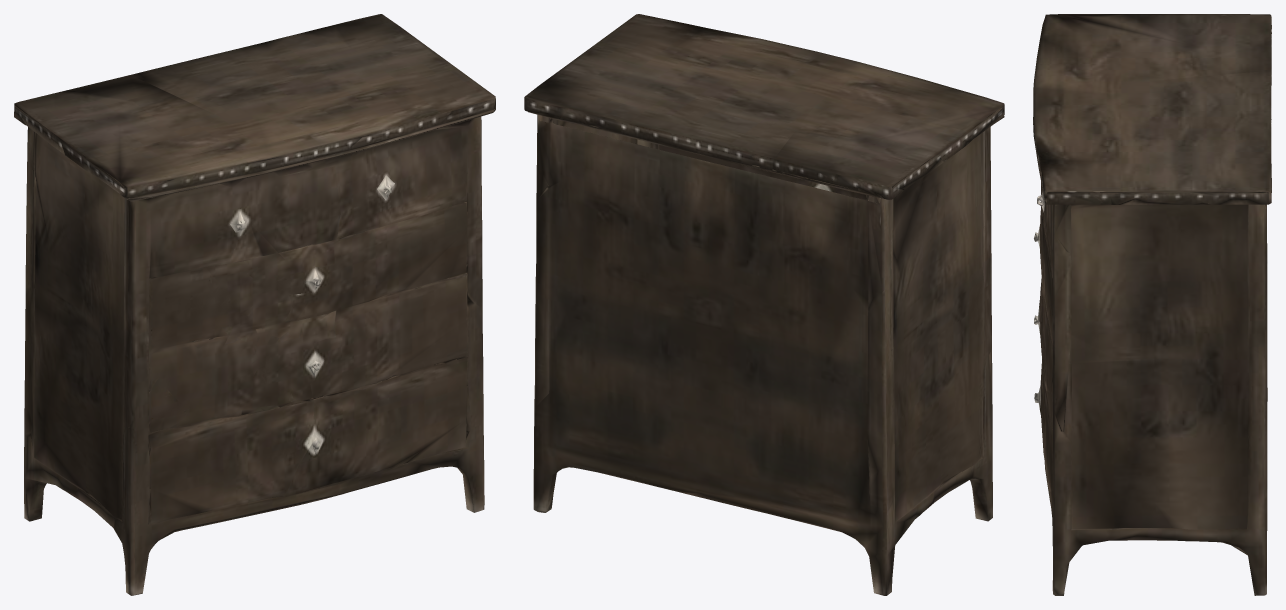
File: dresser.glb
3 views of the same model, side by side, from view 1: azimuth 30°, elevation 25°; view 2: azimuth 150°, elevation 25°; view 3: azimuth 270°, elevation 25° (orthographic).
Visible parts, largest first — view 1: world; view 2: world; view 3: world.
Part boxes in pixels (<box>): world: <box>14,14,495,595</box>; world: <box>524,14,1004,595</box>; world: <box>1033,14,1271,595</box>.
Size of the model in its own units: 0.9339 by 1 by 0.53.
Materials: 1 (1 with a texture image).
